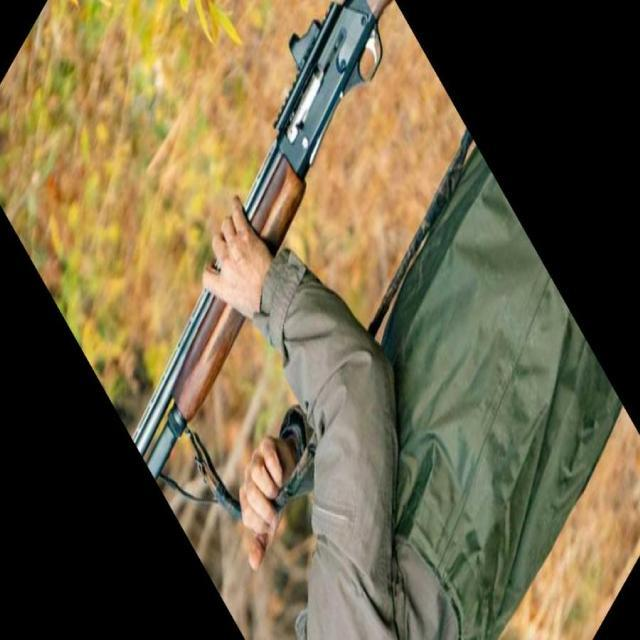weapon: (130, 0, 391, 482)
